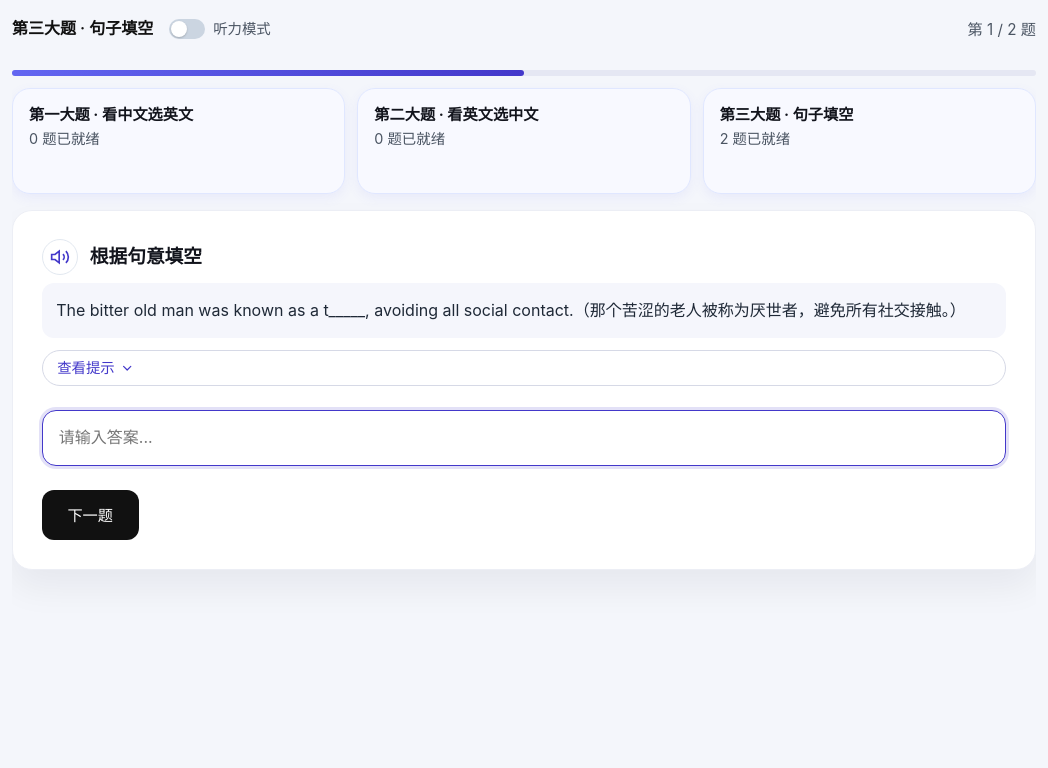
Test: QuizPage › 第三大题填空题 › 按回车键可以提交答案
Type "test" into the field with placeholder "请输入答案..." at (524, 438), box 42,410 -> 1006,466
Then press Enter
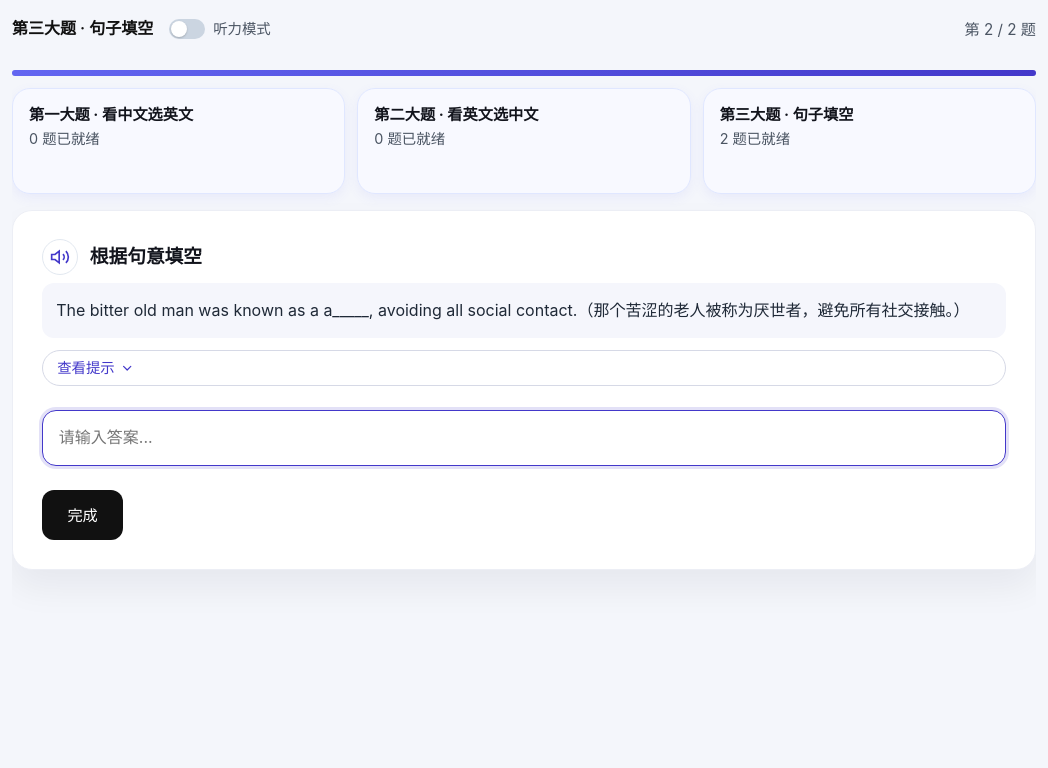
Check: the text "第 2 / 2 题" is shown, box 964,18 -> 1036,42
